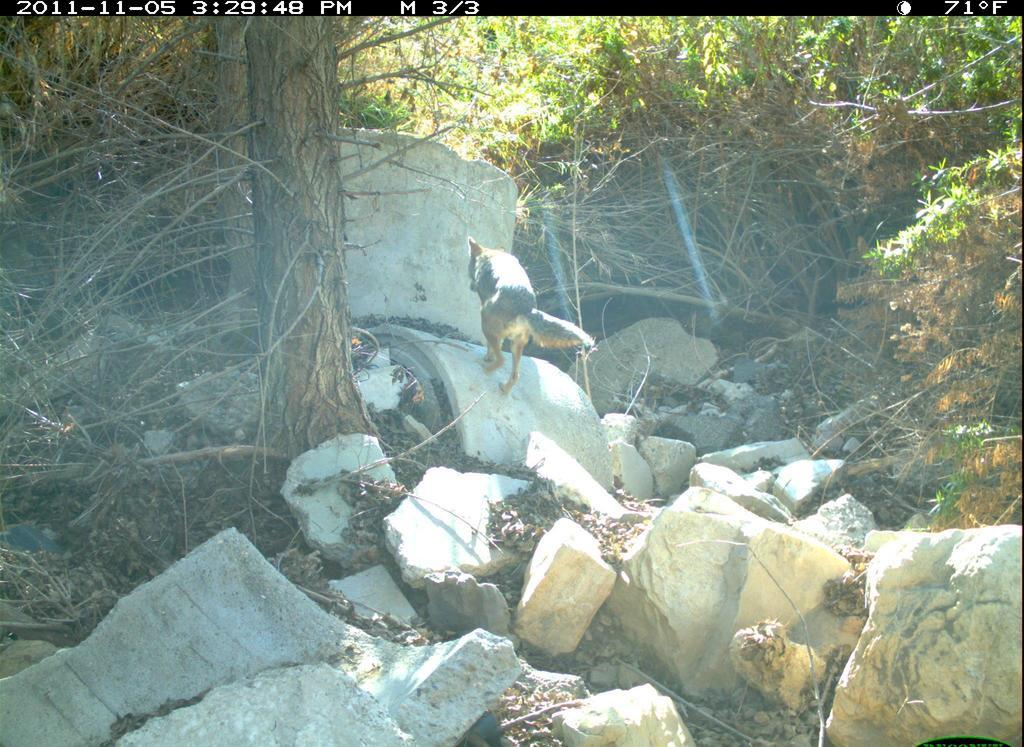coyote: (463, 232, 600, 401)
